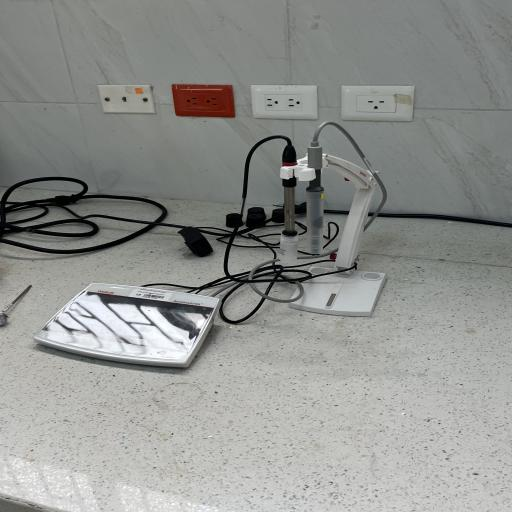Phmetro_Ohaus: (26, 270, 232, 374)
